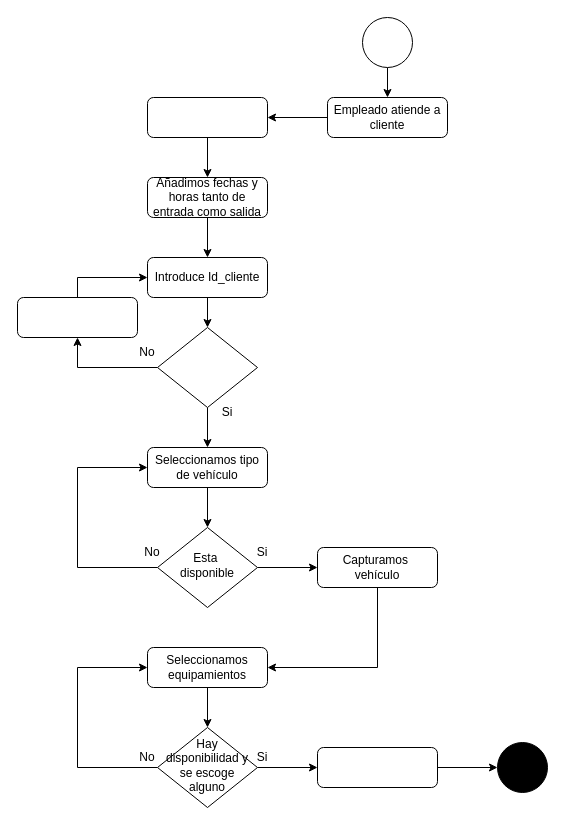
The diagram is 565 pixels wide and 825 high, and some of its shapes have lost their labels. Each missing label, with the centre of its shape:
"Crea un contrato" belongs at point (207, 117).
"Creamos ficha de cliente" belongs at point (77, 317).
"Existe" belongs at point (207, 367).
"Generamos contrato de alquiler" belongs at point (377, 767).
